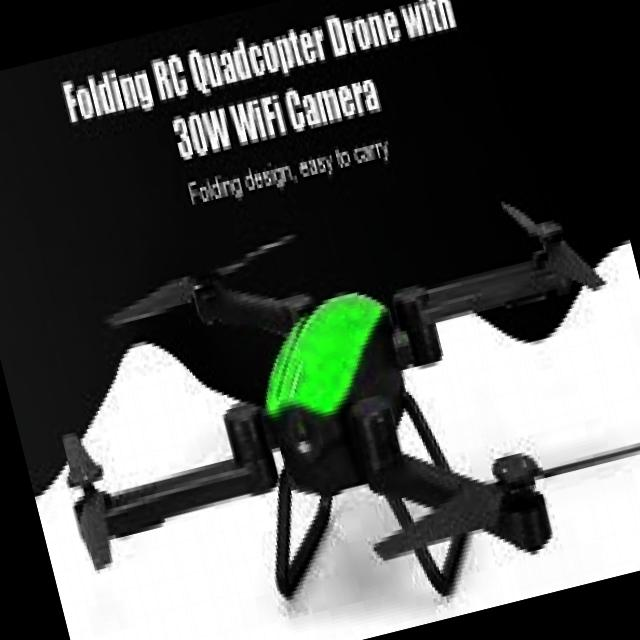drone: (14, 142, 640, 640)
